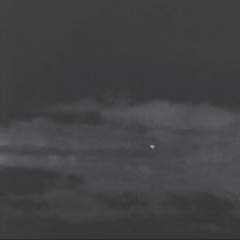Target: (149, 143, 156, 150)
